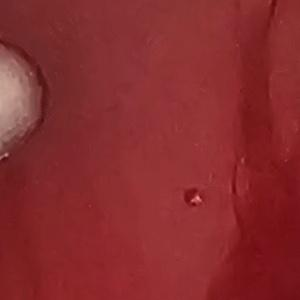colony: (0, 36, 54, 173)
